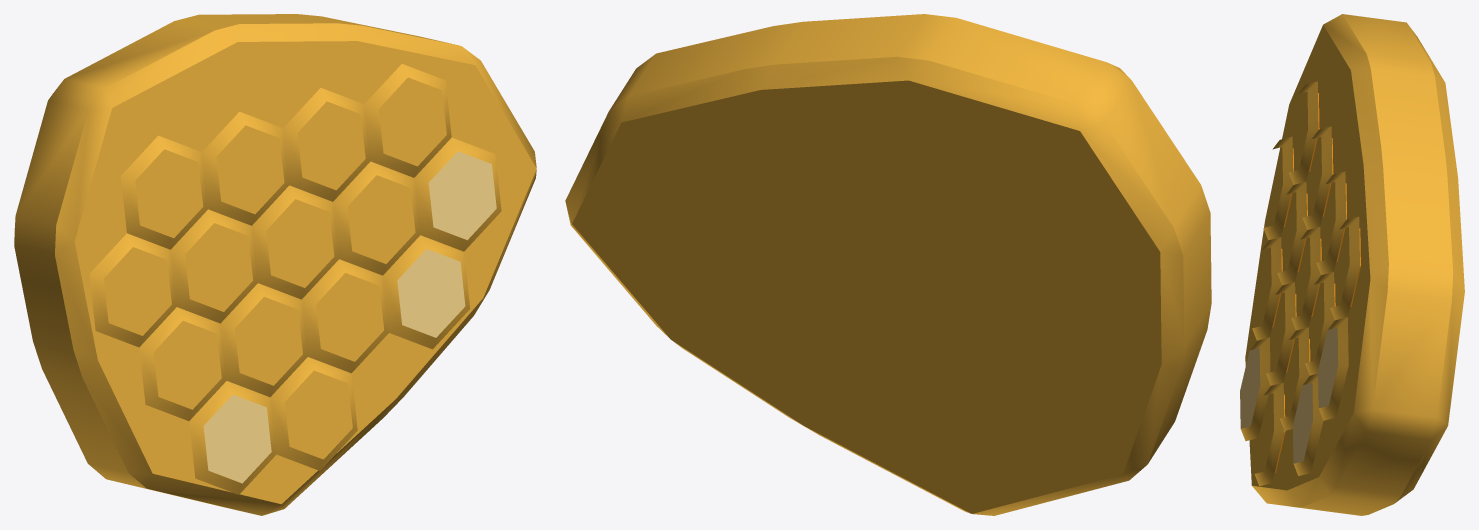
The model's file is honeycomb.glb.
The picture shows the model from 3 angles, left to right: view 1: azimuth 30°, elevation 25°; view 2: azimuth 150°, elevation 25°; view 3: azimuth 270°, elevation 25°; orthographic projection. The views are drawn at different scales.
Parts seen in each view (by area): view 1: Honeycomb Wax, Honeycomb Wax cap; view 2: Honeycomb Wax; view 3: Honeycomb Wax, Honeycomb Wax cap, Honeycomb Honey.
Part boxes in pixels (bbox=[...]): Honeycomb Wax: bbox=[14, 14, 536, 515]; Honeycomb Wax cap: bbox=[203, 151, 496, 483]; Honeycomb Wax: bbox=[565, 14, 1211, 515]; Honeycomb Wax: bbox=[1241, 14, 1464, 515]; Honeycomb Wax cap: bbox=[1240, 327, 1338, 463]; Honeycomb Honey: bbox=[1272, 93, 1360, 472].
Bounding box in the file's own units: 0.3066 × 0.2559 × 0.1153.
